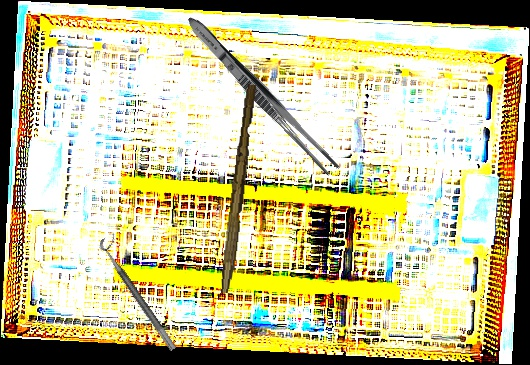Dressing Forceps: (180, 11, 345, 180)
Fixation Ring: (96, 232, 187, 352)
Scalpel Handle: (220, 83, 258, 295)
